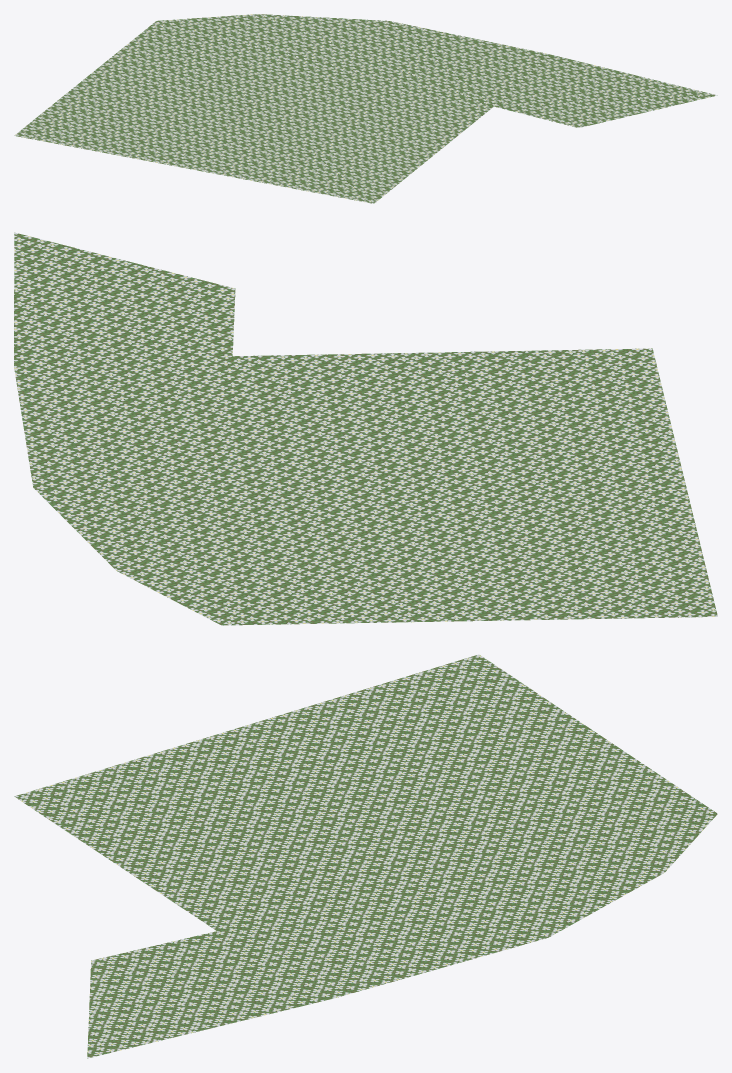
Rendered from kd_stage_136599_10_23_bounded.glb.
3 views of the same model, one above another, from view 1: azimuth 30°, elevation 25°; view 2: azimuth 150°, elevation 25°; view 3: azimuth 270°, elevation 25° (orthographic). The views are drawn at different scales.
Visible parts, largest first — view 1: kd_stage_136599_10_23_bounded; view 2: kd_stage_136599_10_23_bounded; view 3: kd_stage_136599_10_23_bounded.
Part boxes in pixels (<box>): kd_stage_136599_10_23_bounded: <box>14,14,717,203</box>; kd_stage_136599_10_23_bounded: <box>14,232,717,625</box>; kd_stage_136599_10_23_bounded: <box>14,654,717,1058</box>.
Bounding box in the file's own units: 35.54 × 2.5e-06 × 26.16.
1 material, 1 textured.
